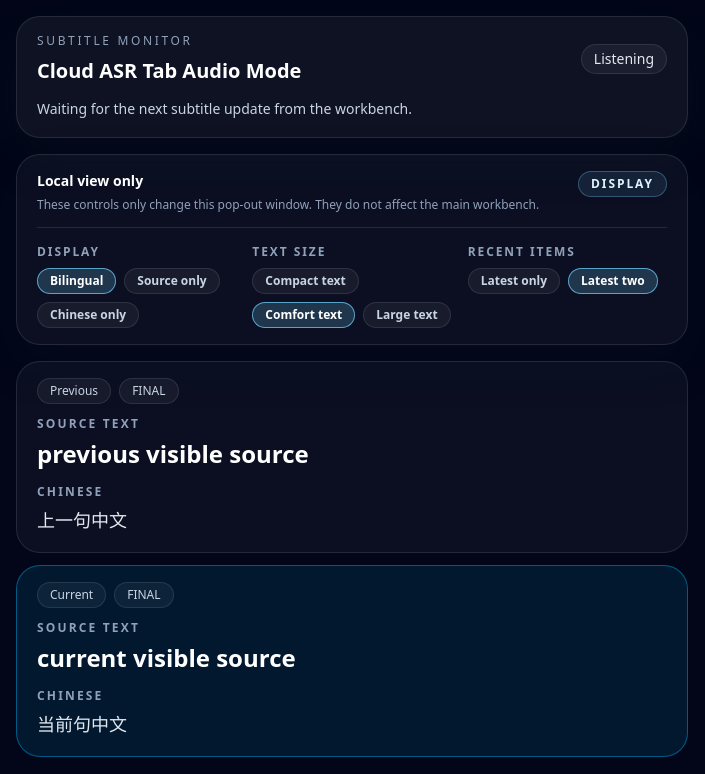
Test: HomePage › lets the subtitle monitor choose one-item or two-item views locally
Check: the text "previous visible source" is shown, box [37,437,309,470]
Check: the text "current visible source" is shown, box [37,641,296,674]
Step 1. Click the button "Latest only" → x=514, y=281, box [468,268,560,294]
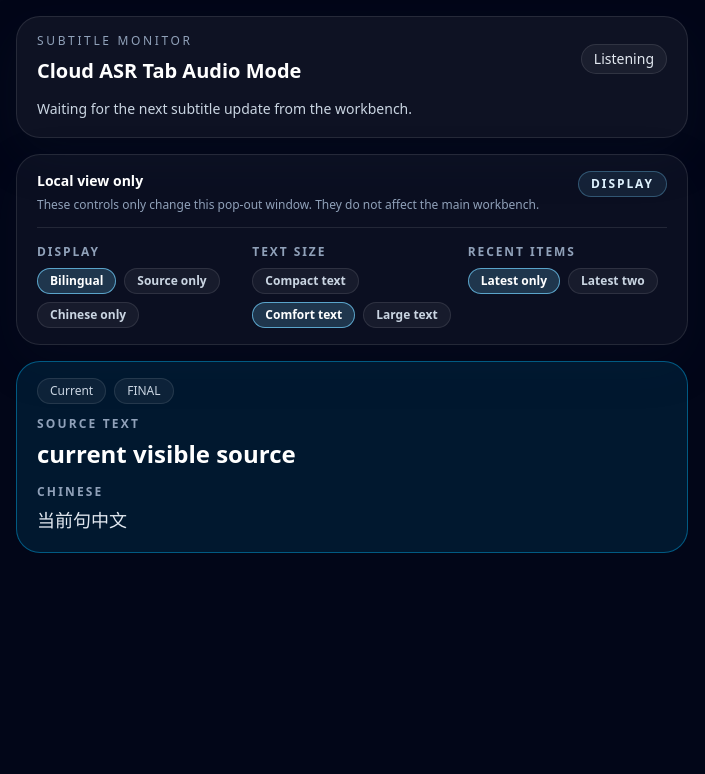
Check: the text "current visible source" is shown, box [37,437,296,470]
Check: the text "previous visible source" is gone
Step 2. Click the button "Latest two" → x=613, y=281, box [568,268,658,294]
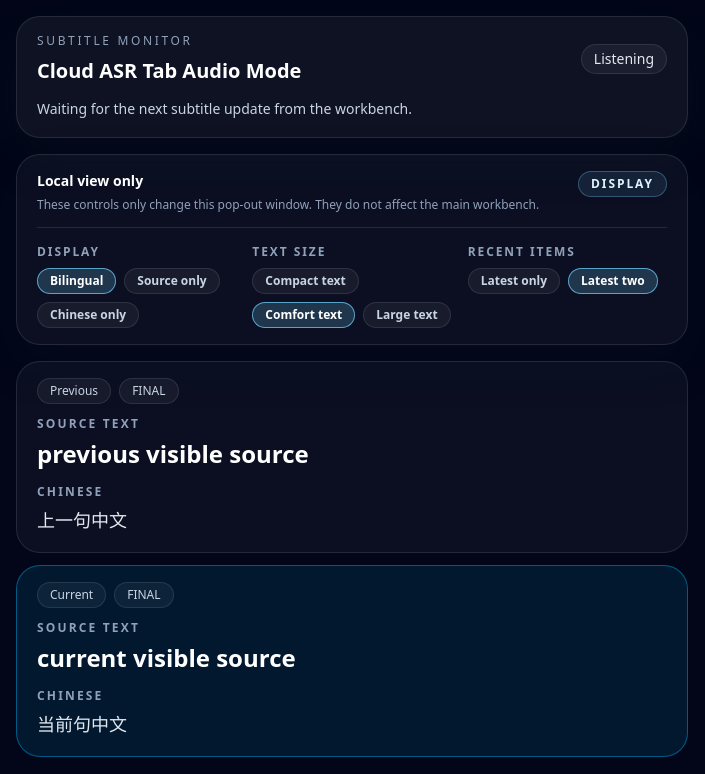
Check: the text "current visible source" is shown, box [37,641,296,674]
Check: the text "previous visible source" is shown, box [37,437,309,470]
